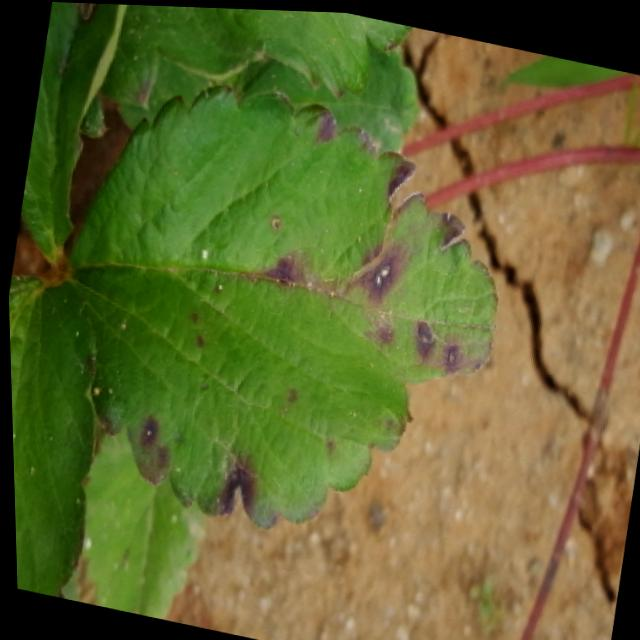Leaf Spot: (61, 80, 500, 529), (80, 4, 413, 139), (19, 1, 129, 269), (7, 276, 92, 598)
